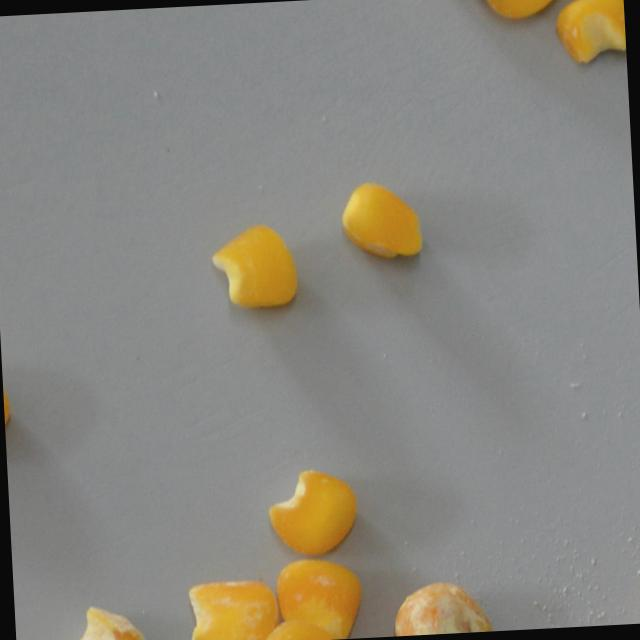dañado: (388, 572, 493, 637)
no_canjicado: (207, 221, 302, 313)
no_desgerminado: (266, 464, 363, 559), (337, 178, 427, 265), (243, 612, 354, 640)
pelicula: (273, 553, 369, 640), (185, 571, 280, 640), (553, 0, 627, 68), (51, 600, 148, 640), (1, 351, 19, 461)
